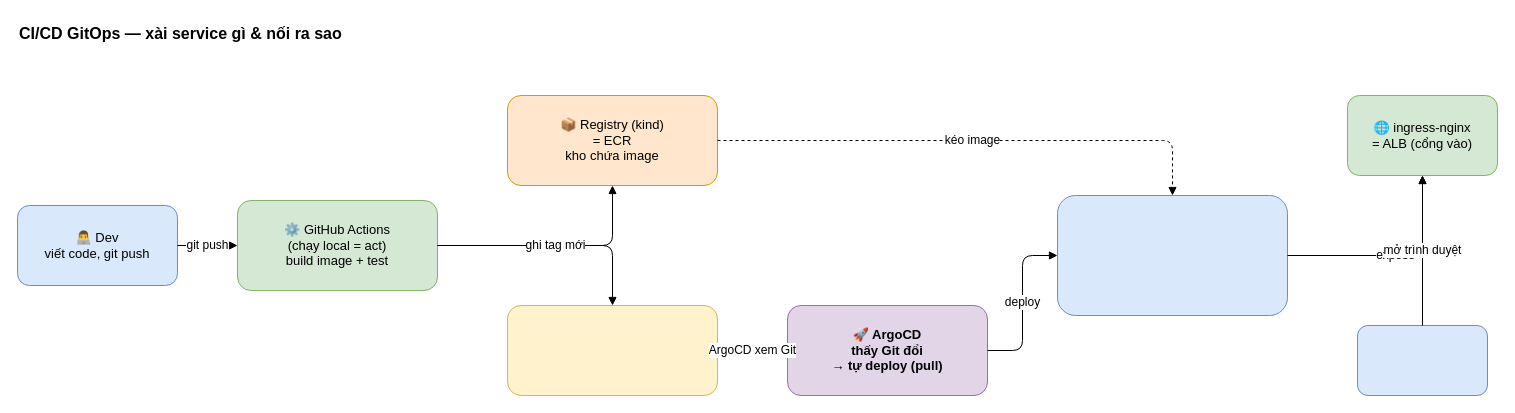
Image size: 1515x413. Some labels were removed from this diagram. Here are the shapes that lost their labels. From the top down, the box of each, then its label:
(1056, 194, 1288, 316): ☸️ Kubernetes (kind) = EKS chạy các service (pod) + Postgres/Kafka/…
(506, 304, 718, 396): 🗂️ Gitea: platform-gitops = Git (nguồn sự thật) ghi 'chạy image tag nào'
(1356, 324, 1488, 396): 🙍 User mở web
